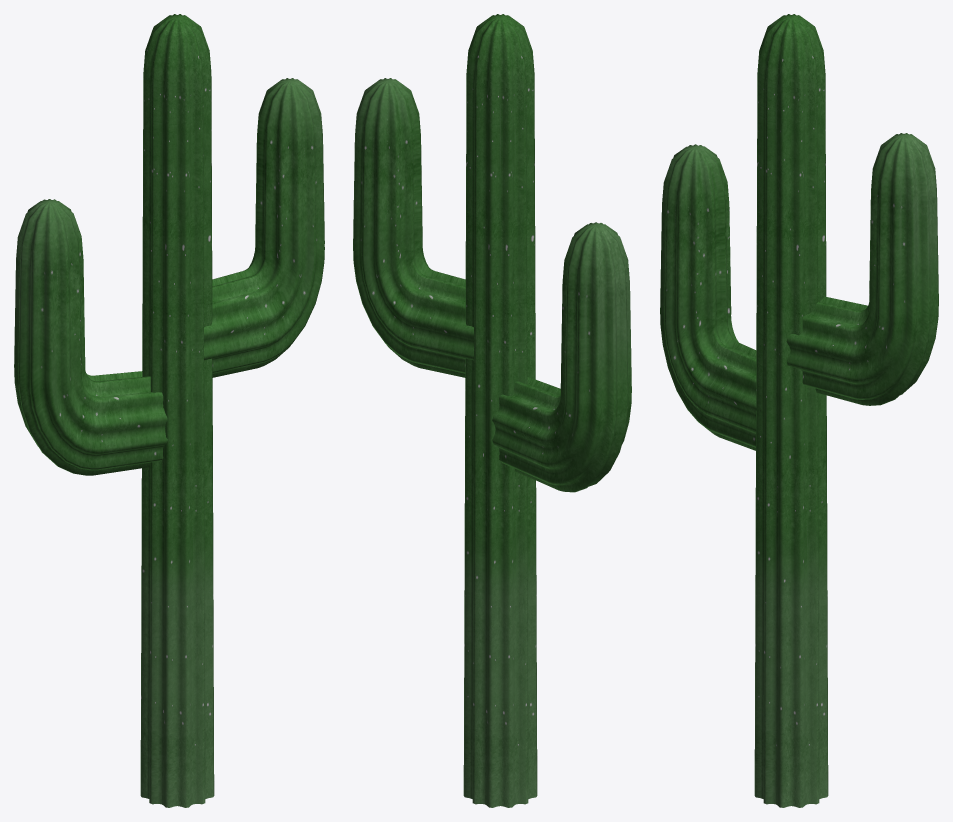
Rendered from cactus.glb.
3 renders of one model, left to right at view 1: azimuth 30°, elevation 25°; view 2: azimuth 150°, elevation 25°; view 3: azimuth 330°, elevation 25°, orthographic.
Parts seen in each view (by area): view 1: pCylinder4; view 2: pCylinder4; view 3: pCylinder4.
Part boxes in pixels (x1,y1,x2,y2): pCylinder4: [14, 14, 324, 807]; pCylinder4: [353, 14, 631, 807]; pCylinder4: [660, 14, 938, 807].
Bounding box in the file's own units: 7.21 × 18.74 × 2.28.
1 material, 1 textured.
